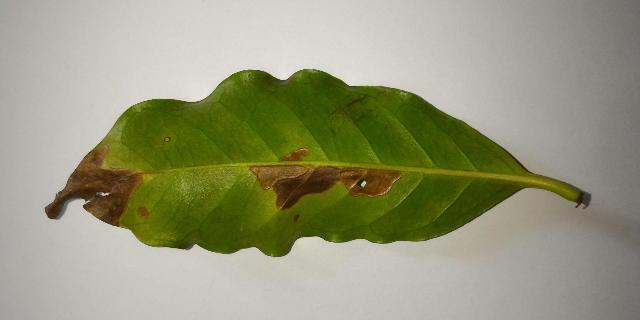cercospora: (249, 148, 401, 211), (45, 143, 155, 227), (136, 206, 149, 219), (293, 214, 300, 221), (163, 137, 170, 141)
